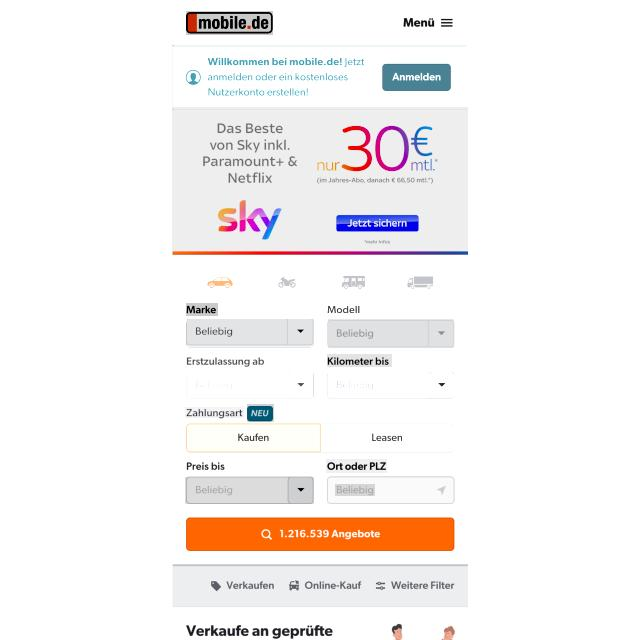CheckBox: (185, 423, 455, 452)
CheckedTextView: (327, 477, 454, 504)
ImageView: (172, 107, 468, 251)
ProgressBar: (173, 45, 470, 110)
RadioButton: (247, 404, 274, 422)
alert: (326, 370, 456, 400), (186, 370, 313, 400), (328, 319, 454, 348), (187, 320, 314, 348), (185, 477, 314, 504)
bag: (171, 0, 469, 46)
data feed: (185, 356, 267, 368), (326, 459, 387, 473), (327, 354, 392, 367), (185, 407, 244, 418), (326, 303, 362, 317), (186, 461, 227, 472), (186, 303, 218, 316)
date picker: (186, 11, 273, 35)
decoration: (403, 14, 453, 31)
footer: (335, 484, 375, 496)
icon: (185, 268, 456, 296)
